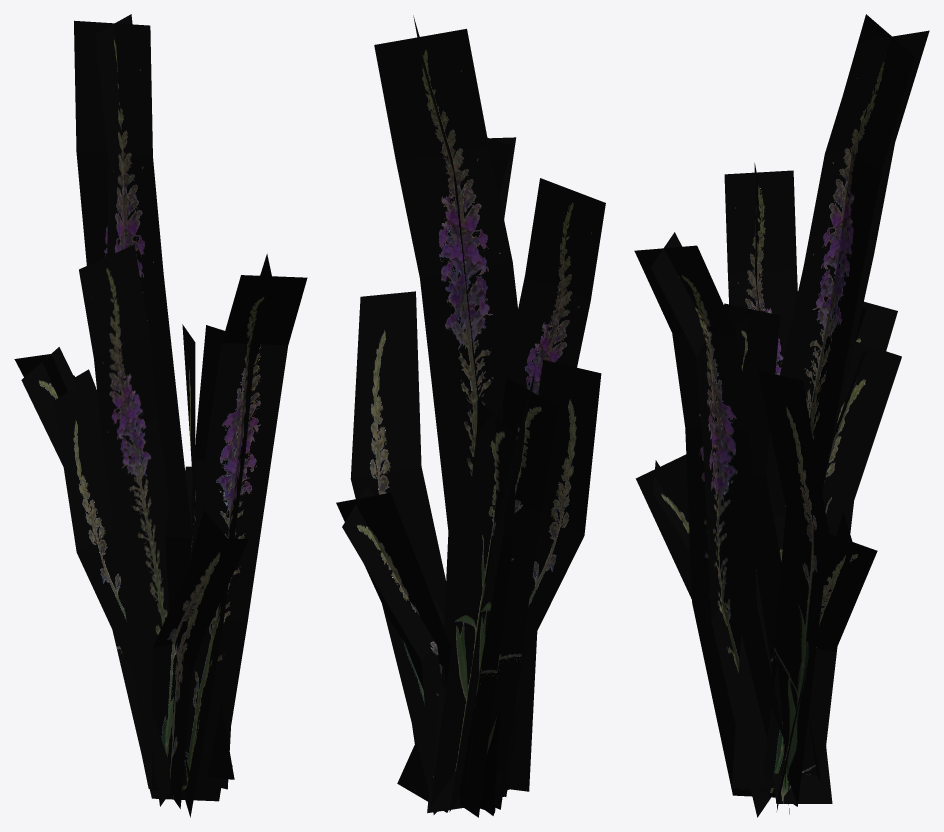
The model's file is flower.obj.
The picture shows the model from 3 angles, left to right: view 1: azimuth 30°, elevation 25°; view 2: azimuth 150°, elevation 25°; view 3: azimuth 270°, elevation 25°; orthographic projection. The views are drawn at different scales.
Visible parts, largest first — view 1: flower_bush_01a_Plane.065; view 2: flower_bush_01a_Plane.065; view 3: flower_bush_01a_Plane.065.
Boxes of the visible parts, <box> form: flower_bush_01a_Plane.065: <box>14,14,307,817</box>; flower_bush_01a_Plane.065: <box>336,15,605,817</box>; flower_bush_01a_Plane.065: <box>634,14,929,817</box>.
Bounding box in the file's own units: 3.08 × 10.58 × 3.69.
